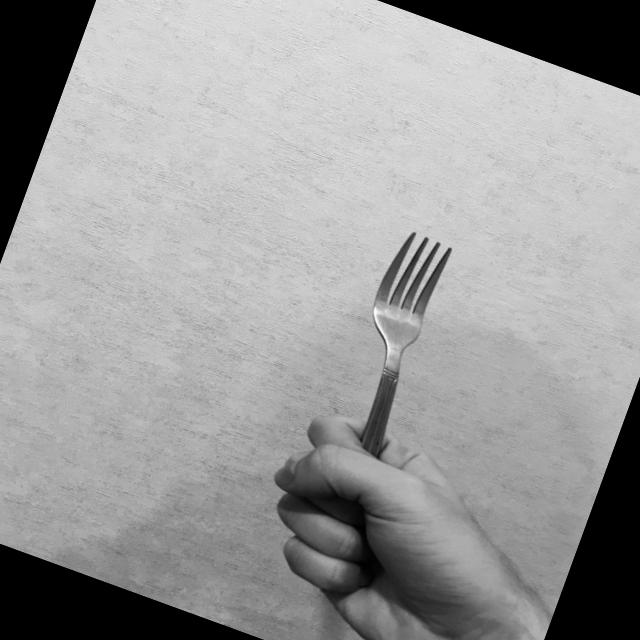fork: (284, 220, 463, 560)
